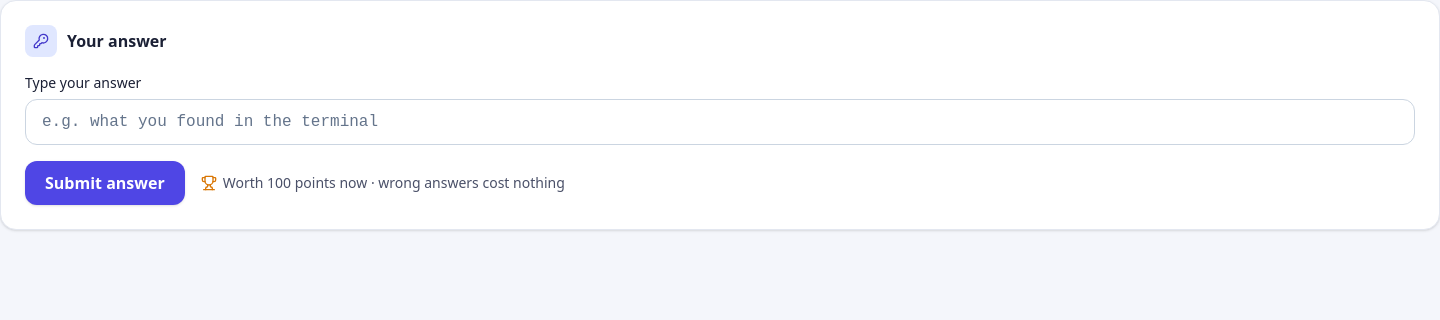
Test: AnswerPanel › sends only the answer text and shows retry feedback for a wrong answer
In the field labelled "Type your answer": (720, 122) [25,99,1415,145], type "guess"
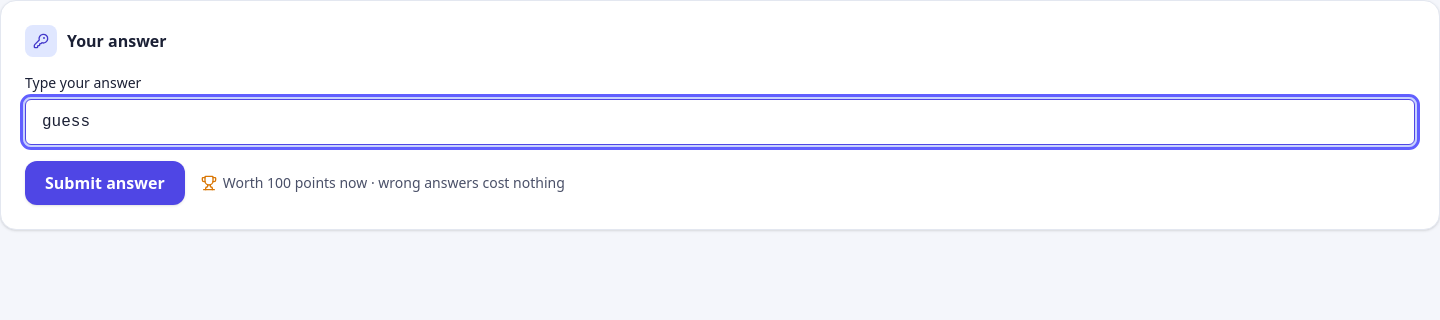
Click the button "Submit answer": (105, 183) [25,161,185,205]
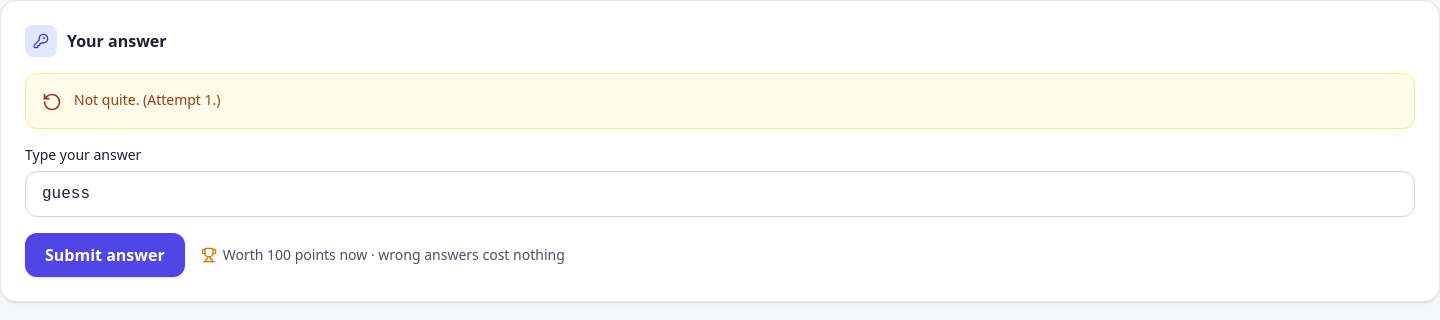
Now the text "Not quite. (Attempt 1.)" is shown, box [74,90,220,110]
